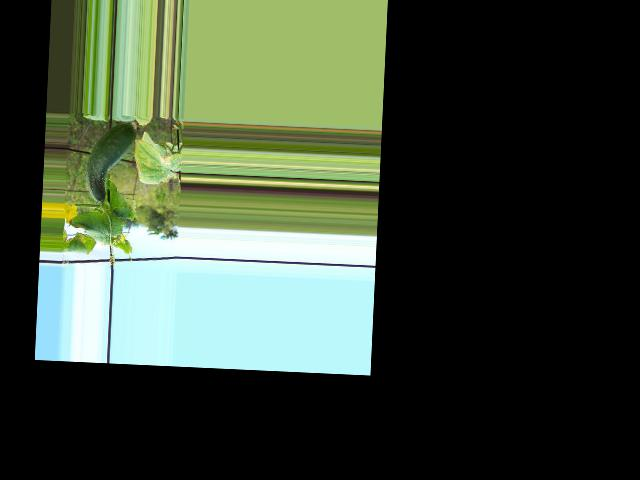cucumber: (84, 121, 137, 204)
